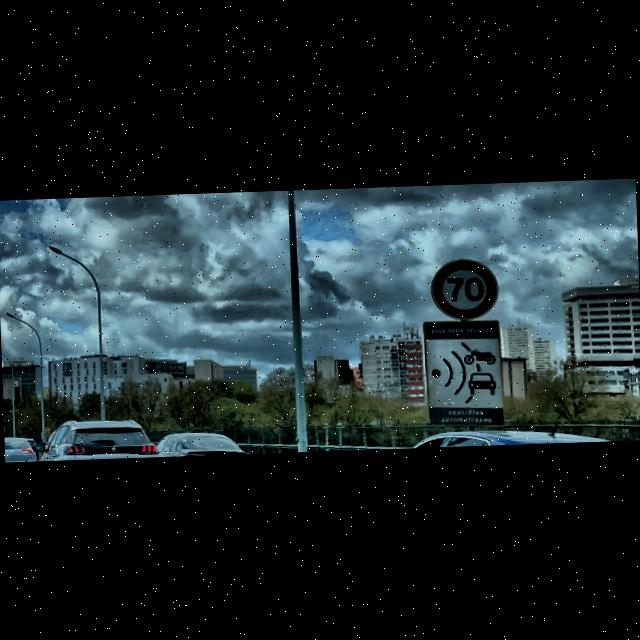speed_70: (428, 258, 499, 320)
